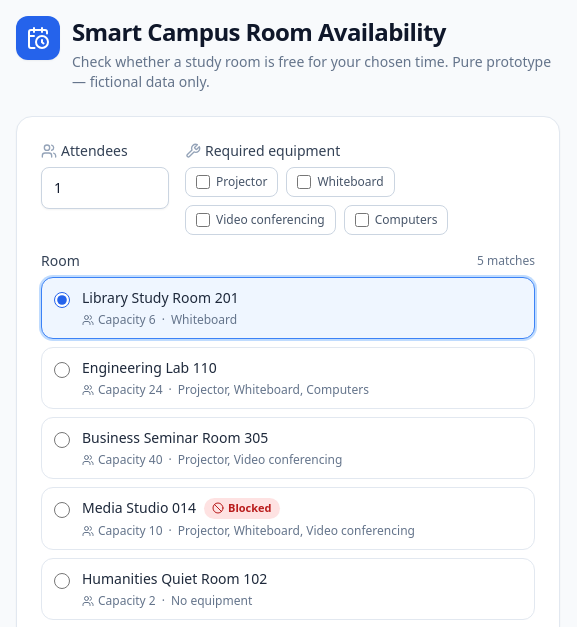
Scenario: F4 – empty state when no rooms match › explains an invalid attendee count
The image size is (577, 627).
Replace the text in the number field labelled "Attendees" with "0" at (105, 188), box x1=41 y1=167 x2=169 y2=209
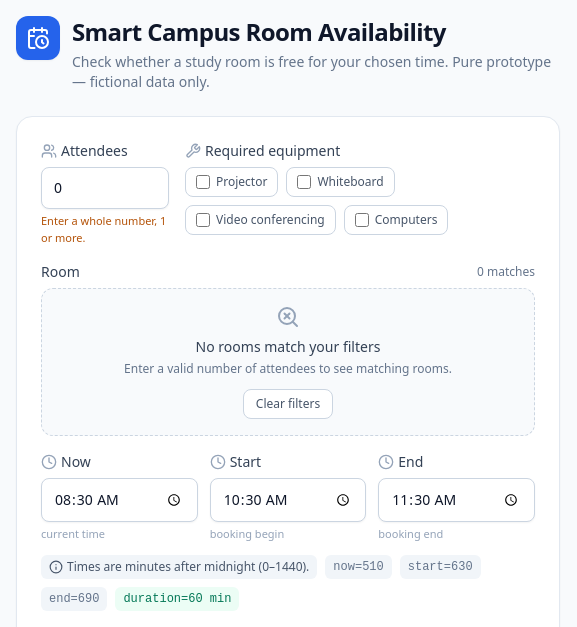
Now the text "Enter a whole number, 1 or more." is shown, box x1=41 y1=213 x2=169 y2=246
Now the text "Enter a valid number of attendees to see matching rooms." is shown, box x1=124 y1=360 x2=452 y2=377
